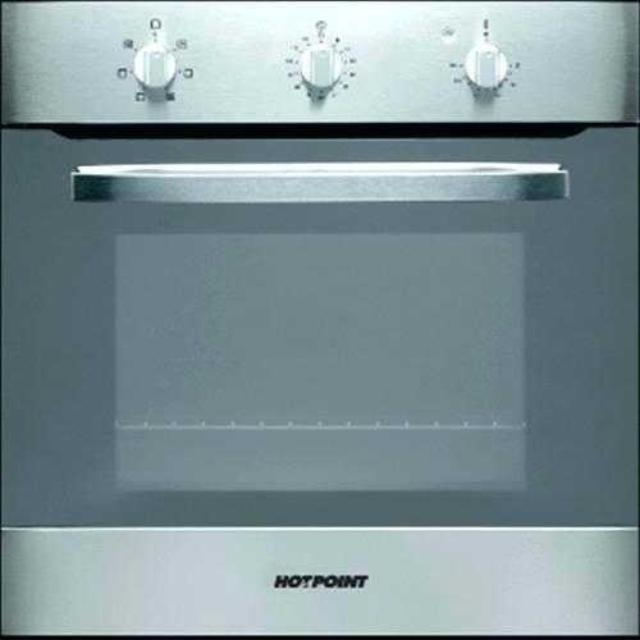Oven: (0, 2, 640, 636)
